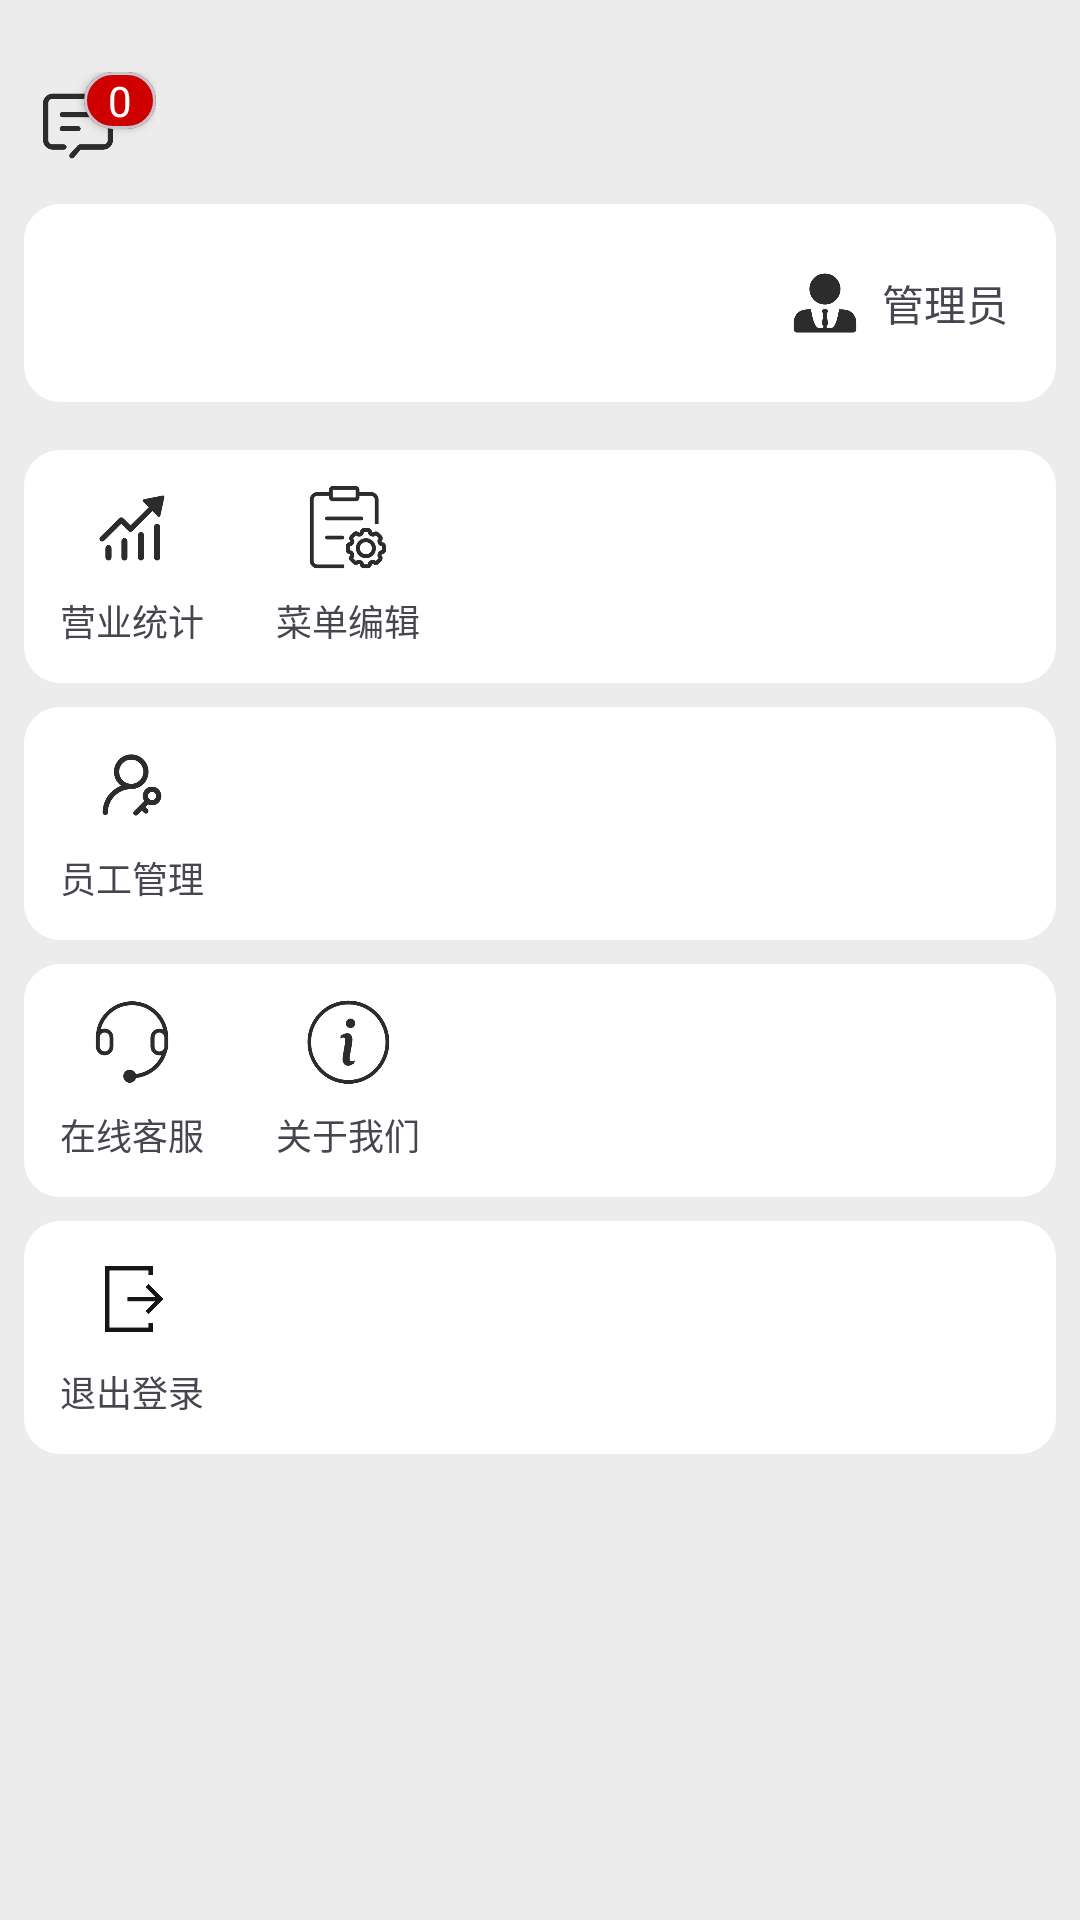

Screen size 1080*1920. Icon name, then its center in pixels as point (x, y):
news: point (81, 121)
set: point (348, 527)
